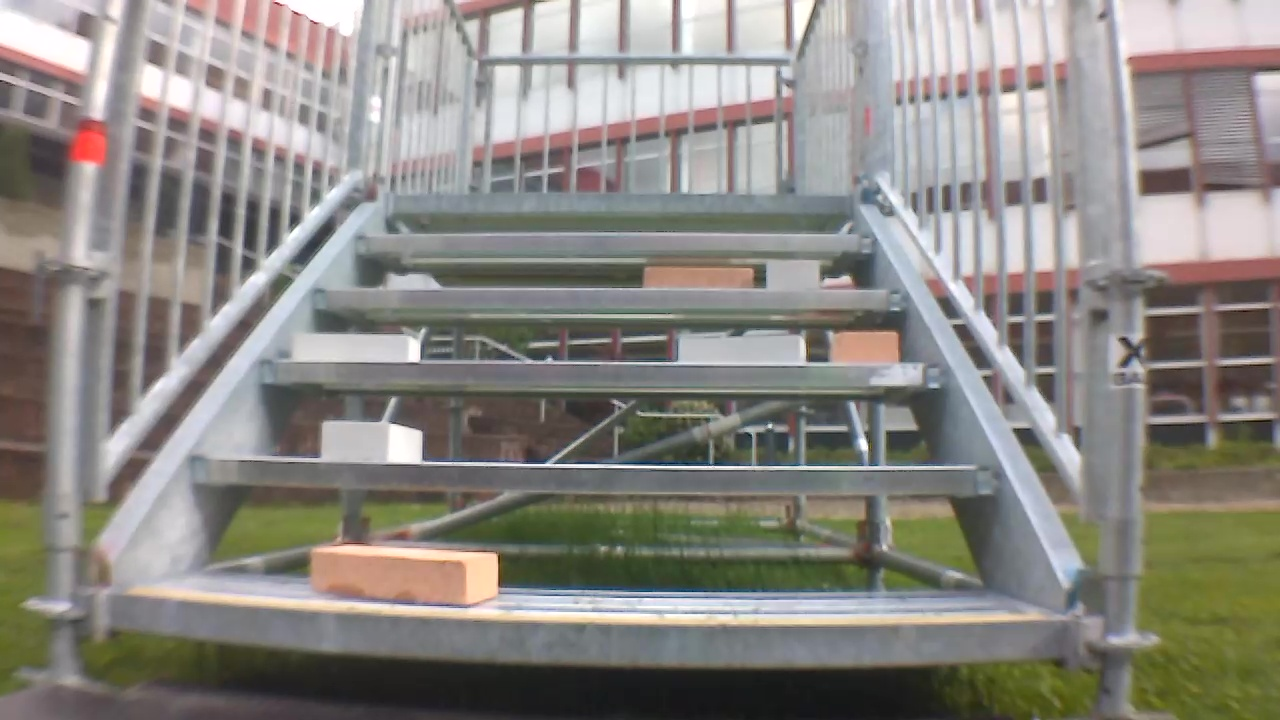brick: (312, 544, 496, 606), (321, 421, 421, 461), (678, 335, 804, 363), (294, 334, 419, 361), (646, 265, 751, 288), (834, 331, 897, 363), (766, 260, 818, 289)
edge: (115, 593, 1067, 665), (187, 455, 994, 492), (259, 362, 950, 390), (313, 289, 905, 310), (388, 193, 858, 213), (354, 234, 881, 251)
stairs: (39, 1, 1165, 714)
steps: (109, 187, 1073, 679)
